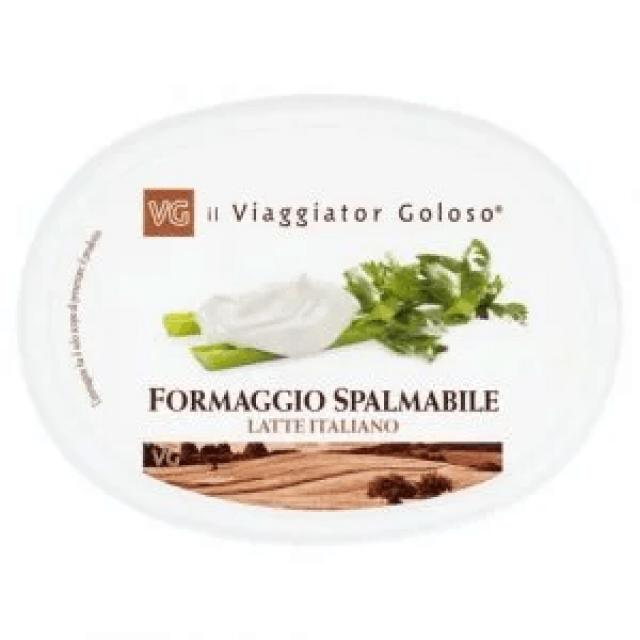Cheese: (13, 94, 621, 544)
